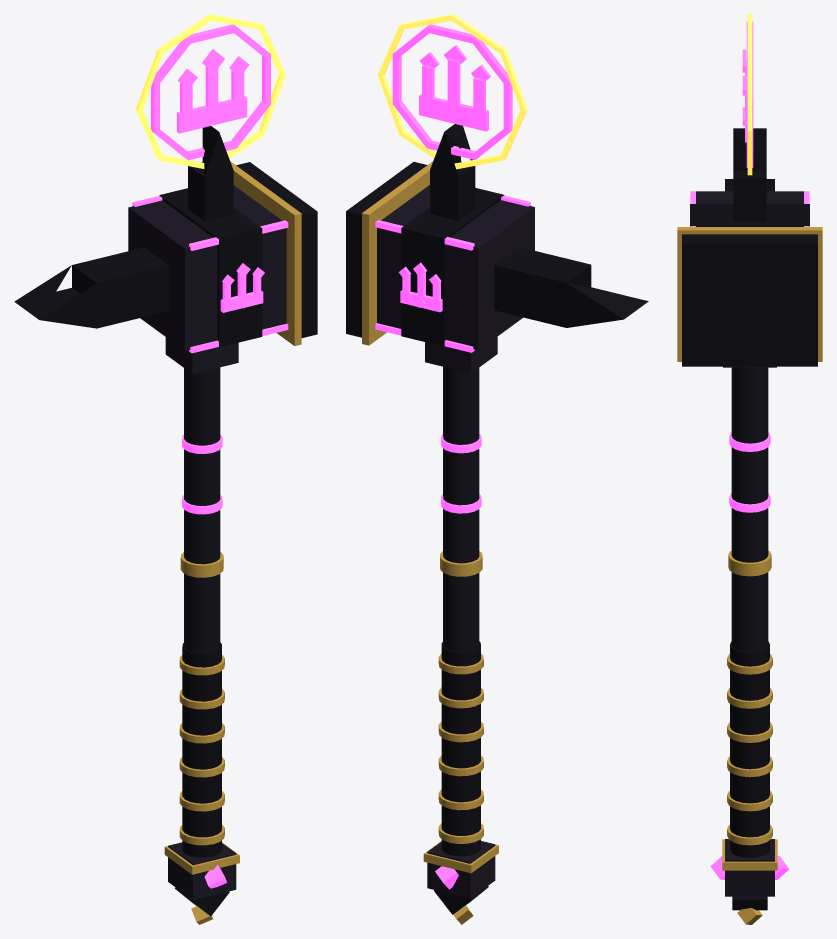
3 views of the same model, side by side, from view 1: azimuth 30°, elevation 25°; view 2: azimuth 150°, elevation 25°; view 3: azimuth 270°, elevation 25° (orthographic).
Visible parts, largest first — view 1: cataclysm-hammer; view 2: cataclysm-hammer; view 3: cataclysm-hammer.
Boxes of the visible parts, left/top/right/bottom form: cataclysm-hammer: left=14, top=14, right=317, bottom=924; cataclysm-hammer: left=346, top=14, right=648, bottom=924; cataclysm-hammer: left=677, top=14, right=822, bottom=924.
Bounding box in the file's own units: 0.5046 × 1.7 × 0.2447.
